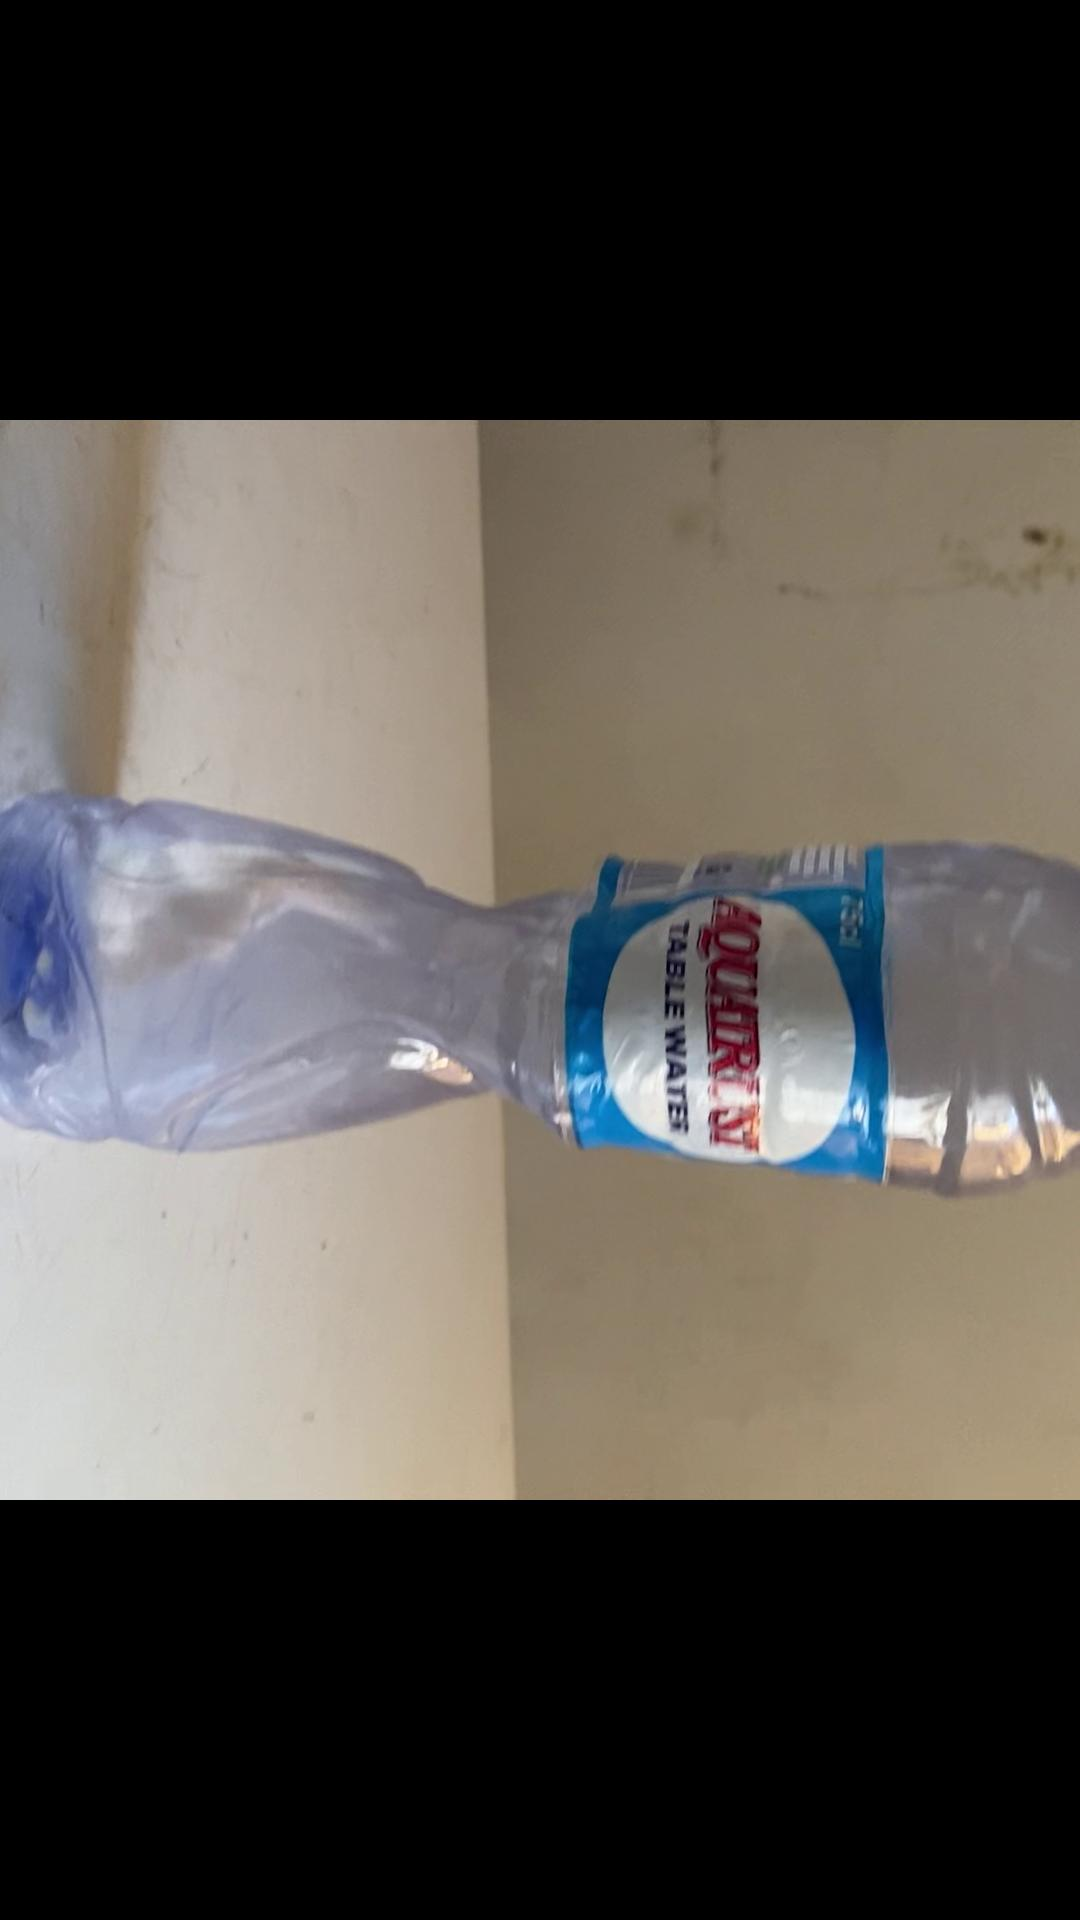crumbled: (0, 777, 1080, 1201)
label: (559, 837, 882, 1149)
